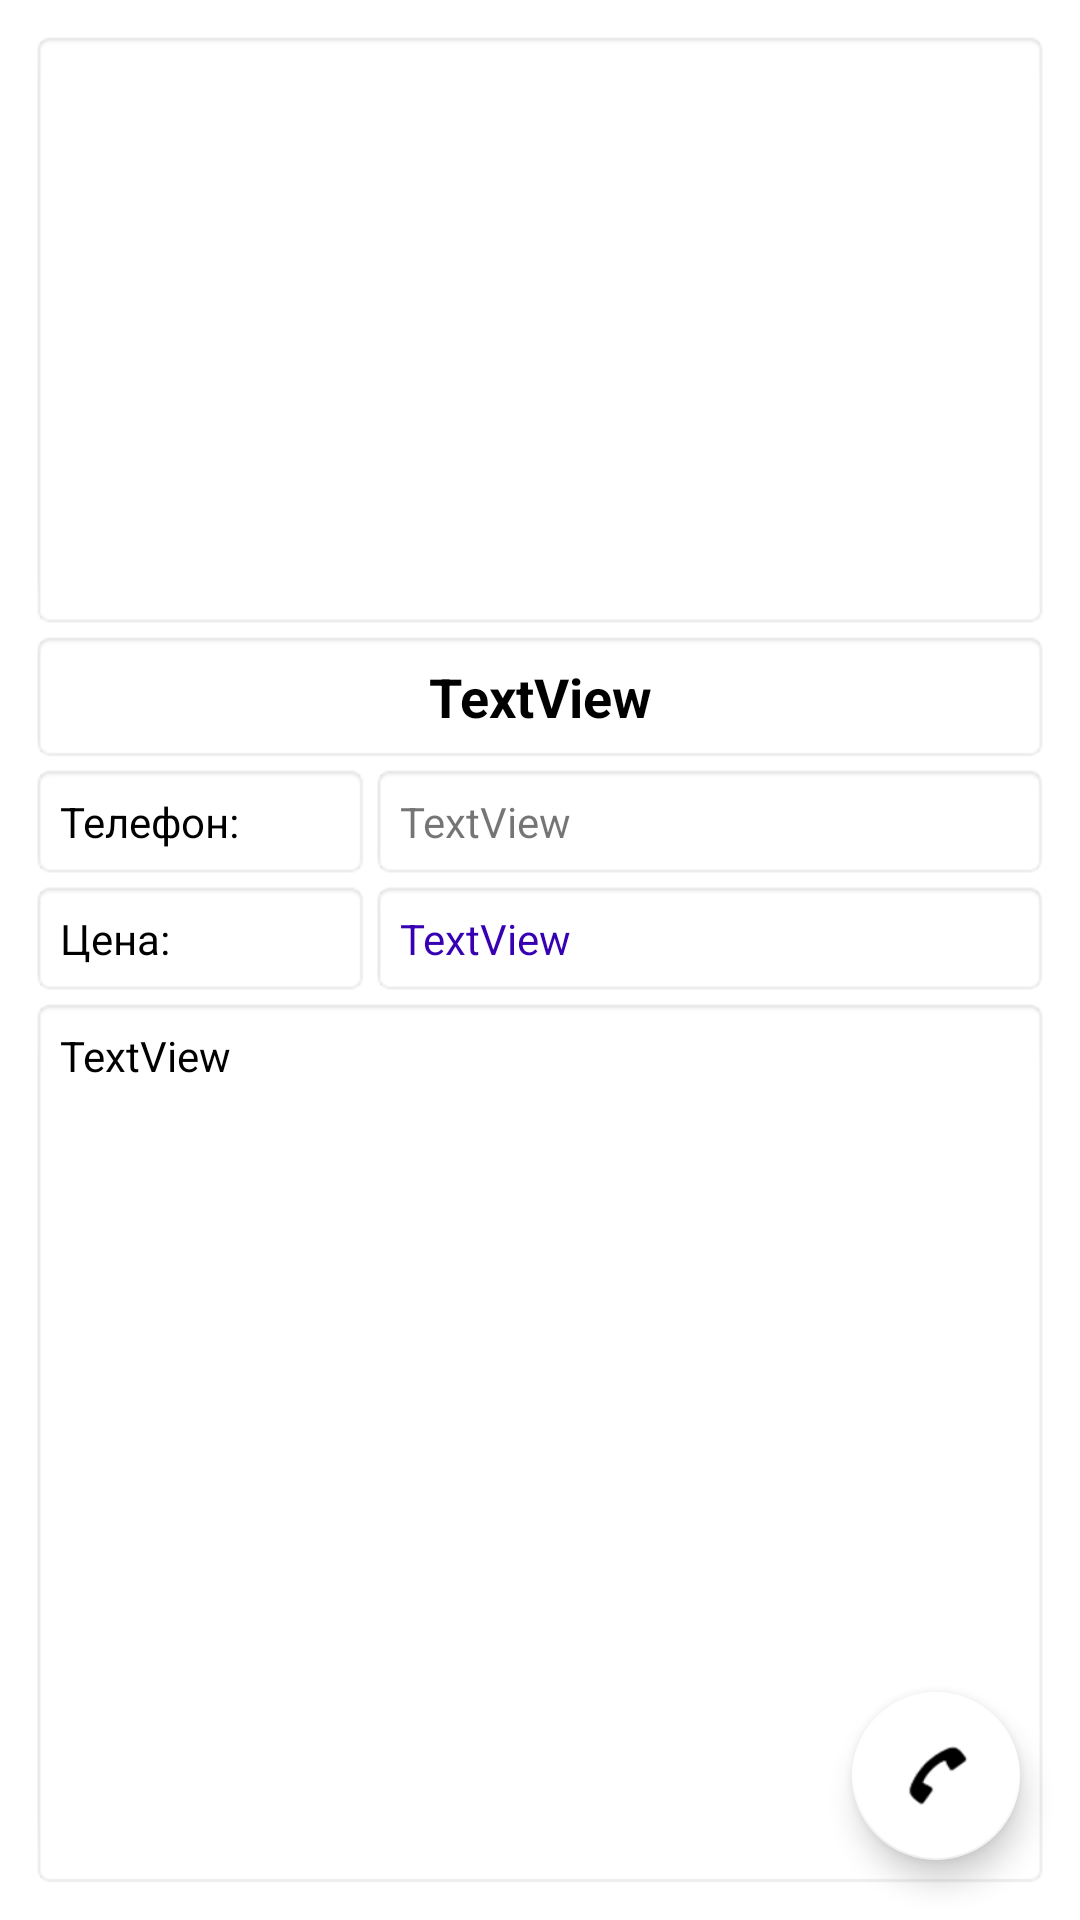

Icons on this 1080 x 1920 Android screen, each with its box as (x1, y1, x2, y2):
sym action call: (857, 1746, 1020, 1860)
